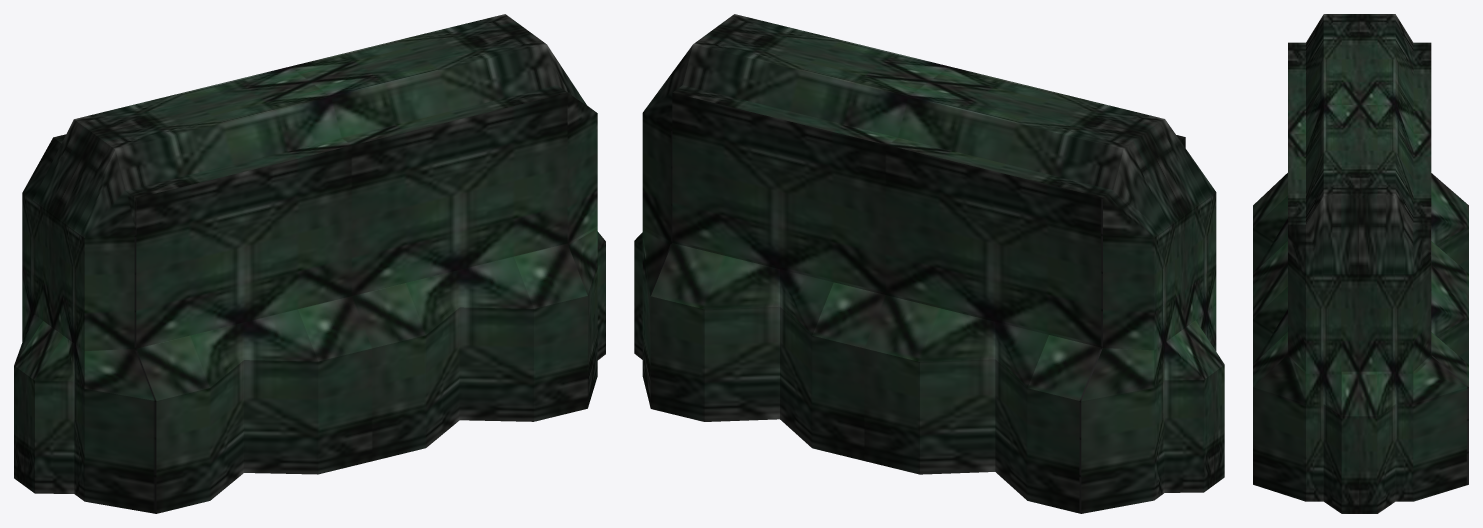
The model's file is street_block.fbx.
3 views of the same model, side by side, from view 1: azimuth 30°, elevation 25°; view 2: azimuth 150°, elevation 25°; view 3: azimuth 270°, elevation 25° (orthographic). The views are drawn at different scales.
Visible parts, largest first — view 1: Cube; view 2: Cube; view 3: Cube.
Boxes of the visible parts, x1=… form: Cube: x1=14, y1=14, x2=605, y2=513; Cube: x1=634, y1=14, x2=1224, y2=513; Cube: x1=1253, y1=14, x2=1468, y2=513.
Size of the model in its own units: 397 by 222 by 150.
1 material, 1 textured.
